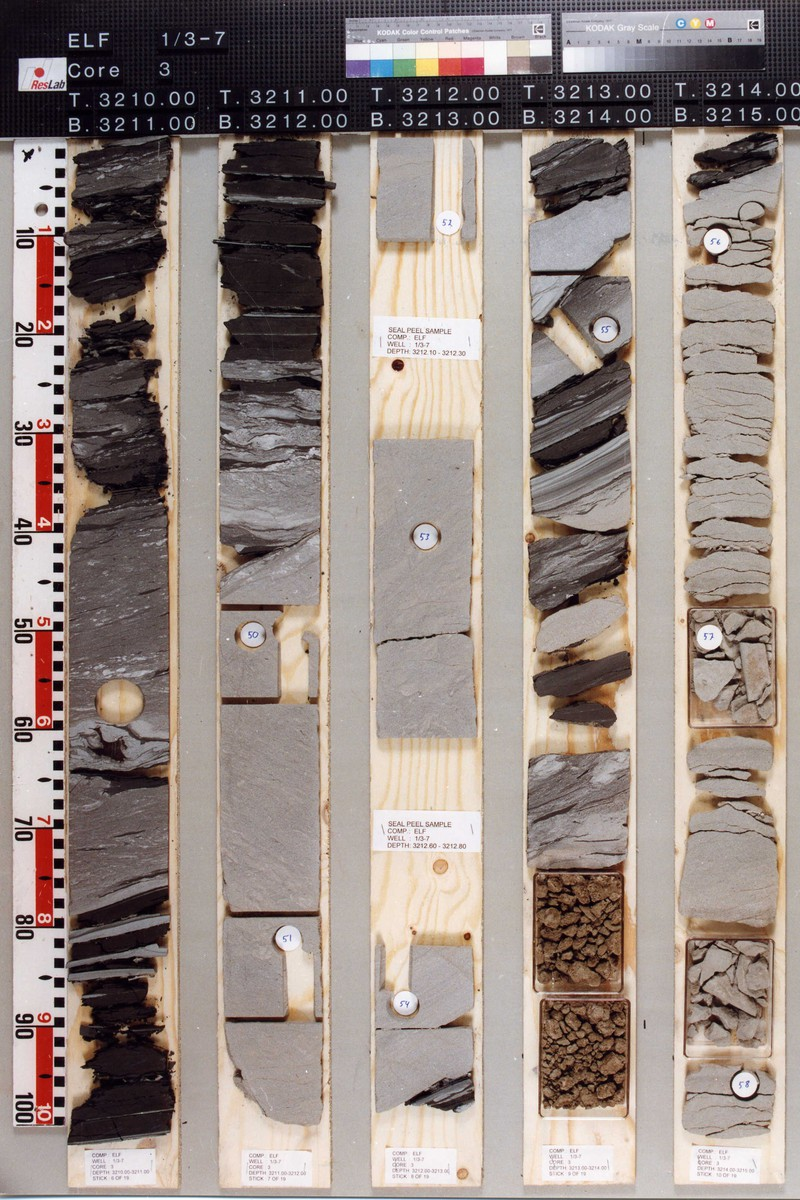core: (68, 140, 178, 1145), (218, 138, 328, 1130), (525, 134, 633, 1122), (682, 136, 782, 1142), (372, 436, 479, 741), (373, 938, 478, 1117), (370, 134, 478, 252)
